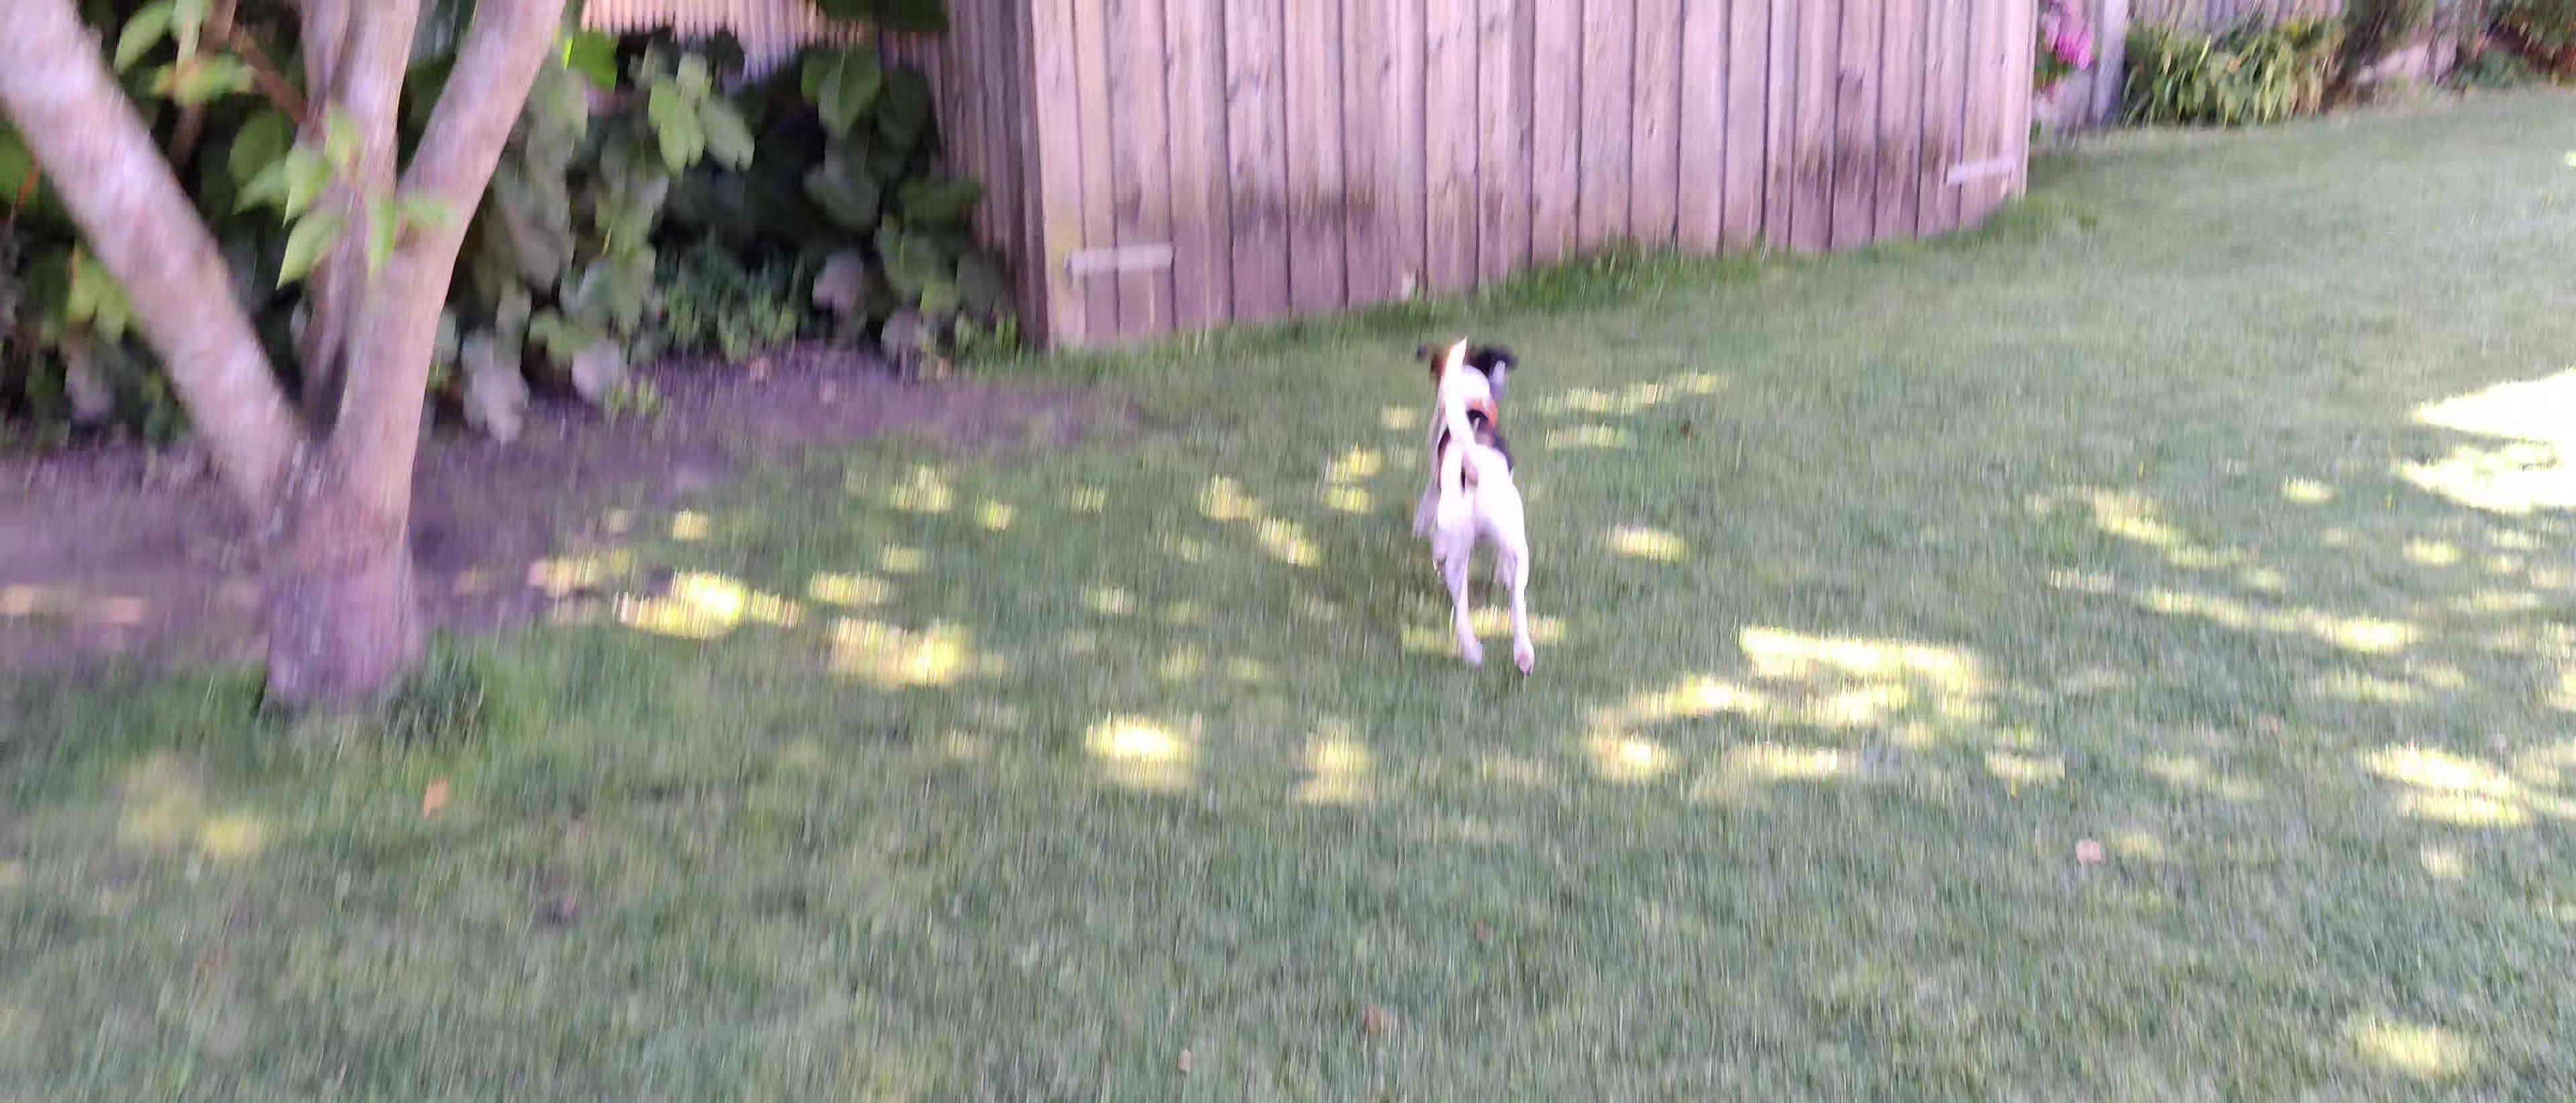Dog: (1408, 330, 1541, 677)
